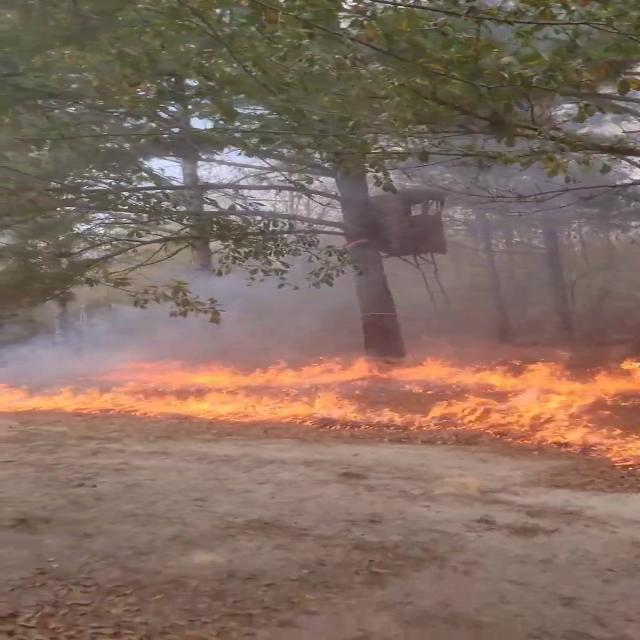Fire: (2, 342, 638, 430)
Smoke: (2, 256, 338, 372)
